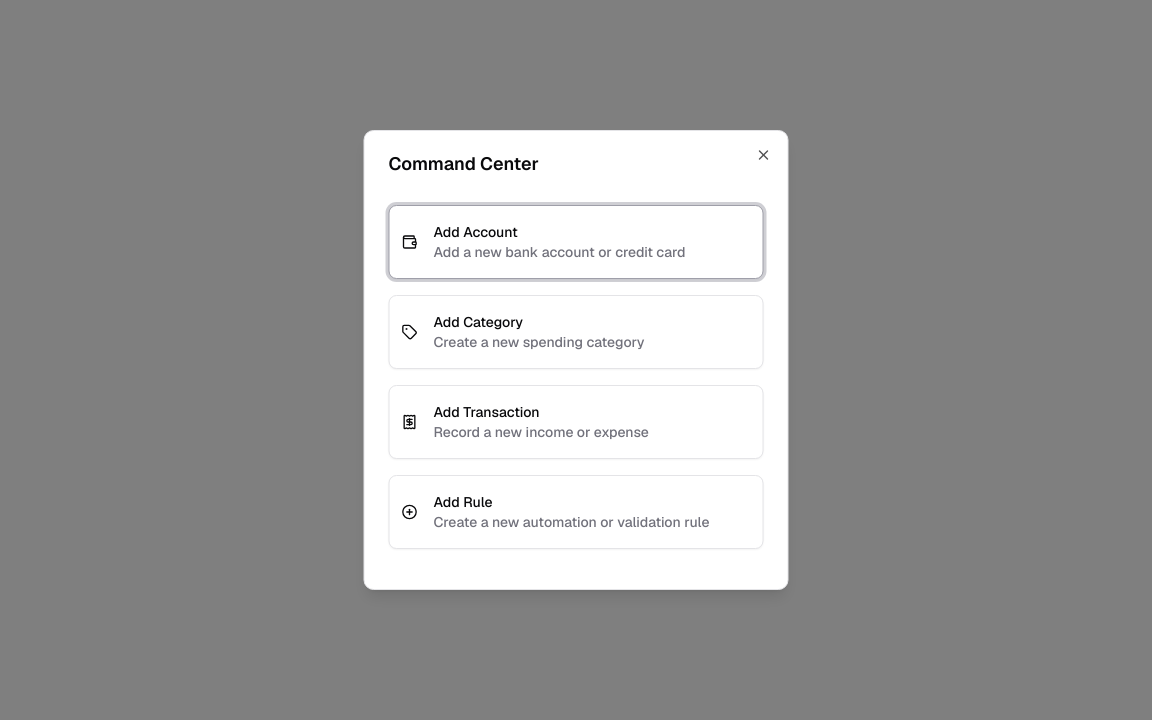
Test case: CommandCenterModal › opens the account form
Click the button "Add Account Add a new bank account or credit card" at (576, 242), box [388,205,764,279]
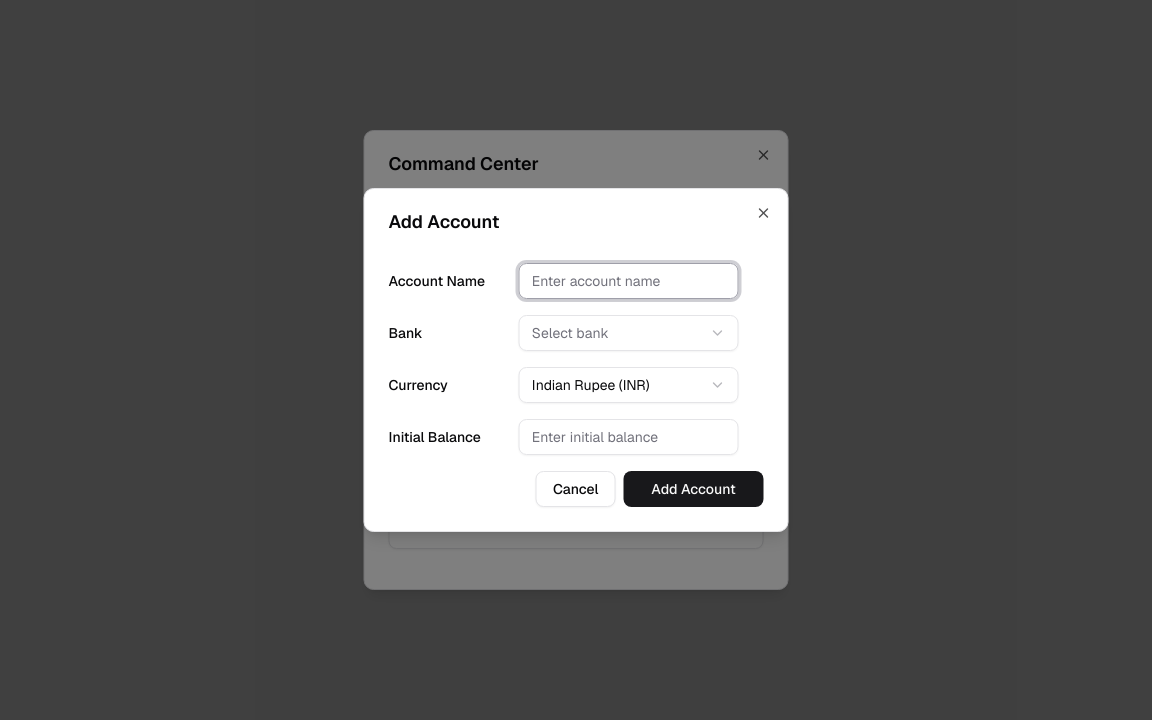
Now the dialog "Add Account" is shown, box [364,188,788,532]
